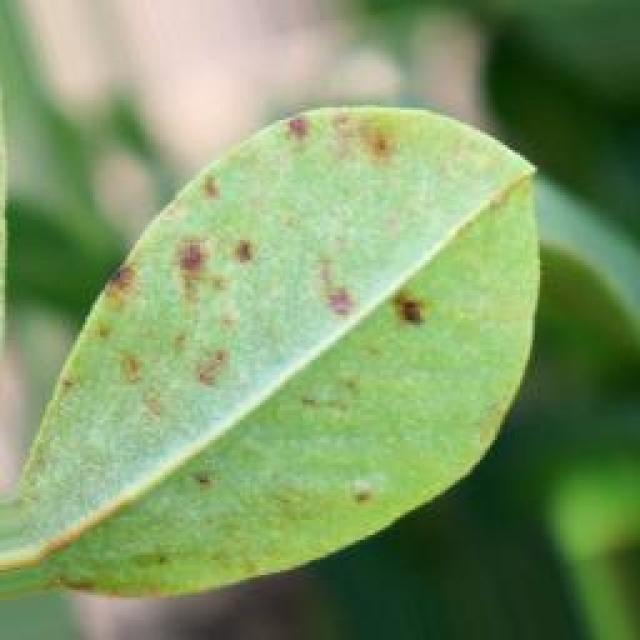Whitefly: (0, 58, 496, 625)
